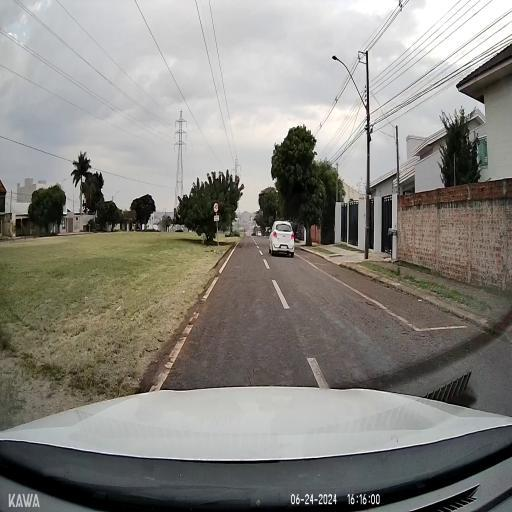R-19: (214, 202, 218, 213)
